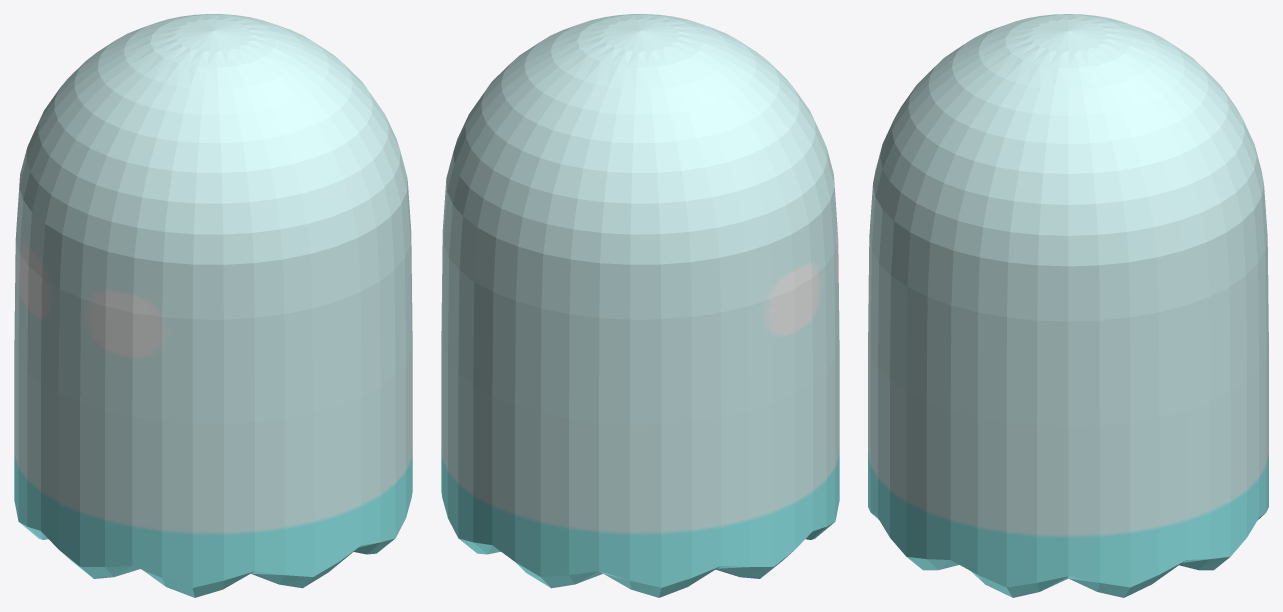
Rendered from GhostMesh_Complete.fbx.
3 views of the same model, side by side, from view 1: azimuth 30°, elevation 25°; view 2: azimuth 150°, elevation 25°; view 3: azimuth 270°, elevation 25° (orthographic).
Visible parts, largest first — view 1: pCylinder1; view 2: pCylinder1; view 3: pCylinder1.
Part boxes in pixels (x1,y1,x2,y2): pCylinder1: (14, 14, 412, 597); pCylinder1: (441, 14, 839, 597); pCylinder1: (868, 14, 1268, 597).
Size of the model in its own units: 5.38 by 7.33 by 5.38.
